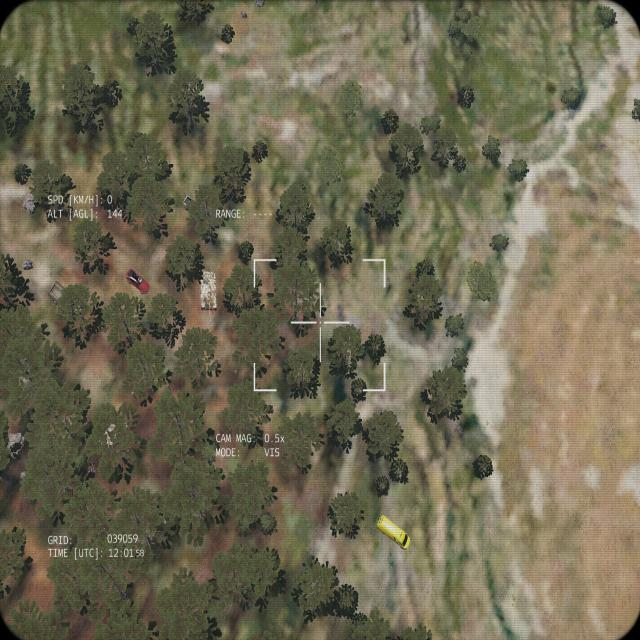car: (374, 507, 414, 560), (122, 265, 154, 295)
tank: (200, 269, 217, 323)
truck: (50, 281, 84, 315)
